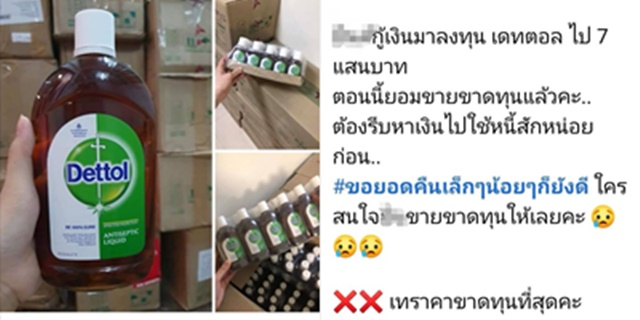Cleaning_solution: (25, 6, 158, 295)
